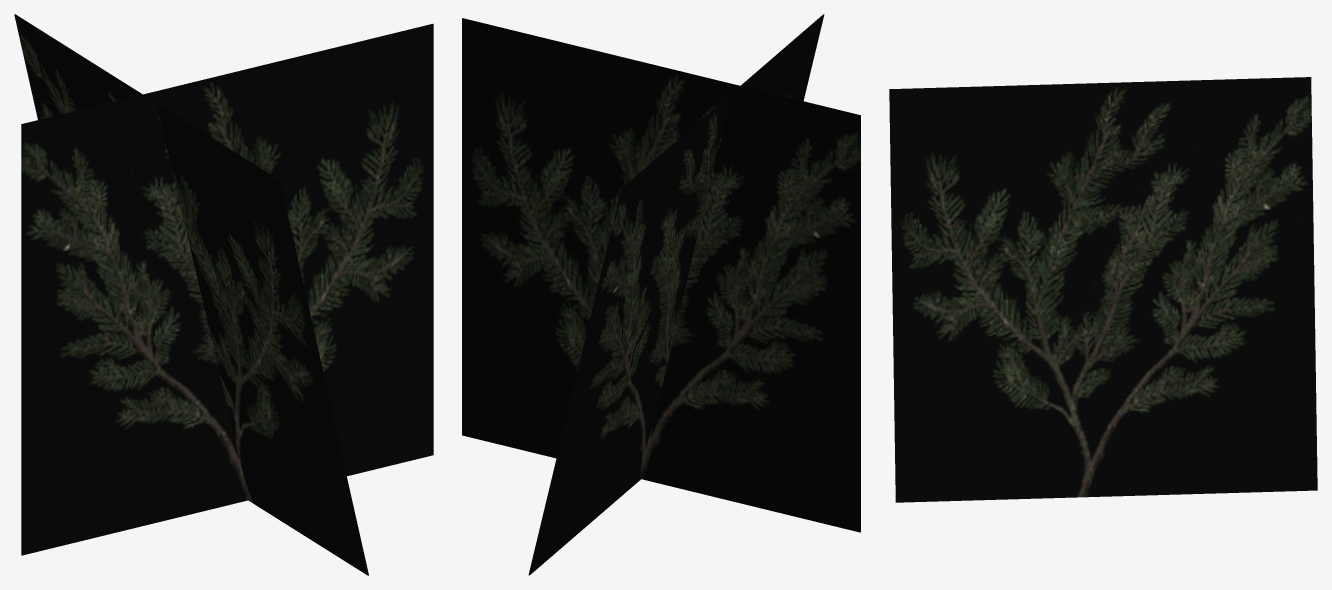
File: mtns_shrb_evergreen_a2_l2.fbx
3 views of the same model, side by side, from view 1: azimuth 30°, elevation 25°; view 2: azimuth 150°, elevation 25°; view 3: azimuth 270°, elevation 25° (orthographic). The views are drawn at different scales.
Parts seen in each view (by area): view 1: mesh_node; view 2: mesh_node; view 3: mesh_node.
Boxes of the visible parts, <box> form: mesh_node: <box>14,14,433,575</box>; mesh_node: <box>462,14,860,575</box>; mesh_node: <box>889,77,1317,502</box>.
Bounding box in the file's own units: 3.05 × 3.06 × 3.09.
